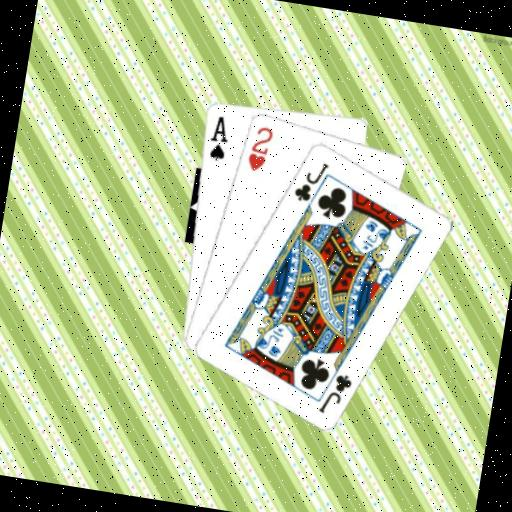2H: (243, 121, 276, 175)
AS: (203, 111, 232, 163)
JC: (289, 155, 331, 206), (314, 367, 354, 418)
